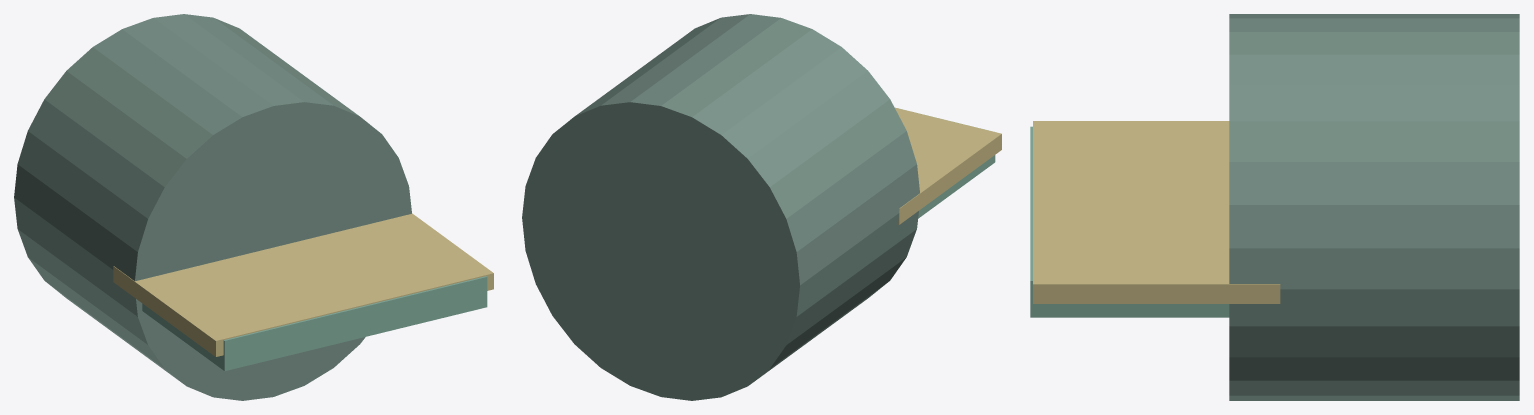
Rendered from info-pedestal-high.glb.
The picture shows the model from 3 angles, left to right: view 1: azimuth 30°, elevation 25°; view 2: azimuth 150°, elevation 25°; view 3: azimuth 270°, elevation 25°; orthographic projection. The views are drawn at different scales.
Visible parts, largest first — view 1: base, edge, plate; view 2: base, edge, plate; view 3: base, edge, plate.
Part boxes in pixels (bbox=[...]): base: bbox=[14, 14, 411, 400]; edge: bbox=[113, 213, 493, 356]; plate: bbox=[142, 276, 487, 370]; base: bbox=[522, 14, 919, 400]; edge: bbox=[895, 107, 1001, 224]; plate: bbox=[918, 155, 995, 218]; base: bbox=[1229, 14, 1519, 400]; edge: bbox=[1033, 121, 1280, 303]; plate: bbox=[1030, 126, 1229, 317].
Bounding box in the file's own units: 0.72 × 0.72 × 0.91.
